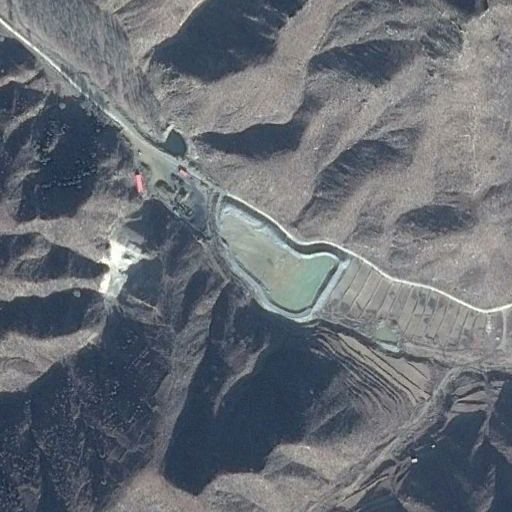tp: (214, 193, 347, 326)
